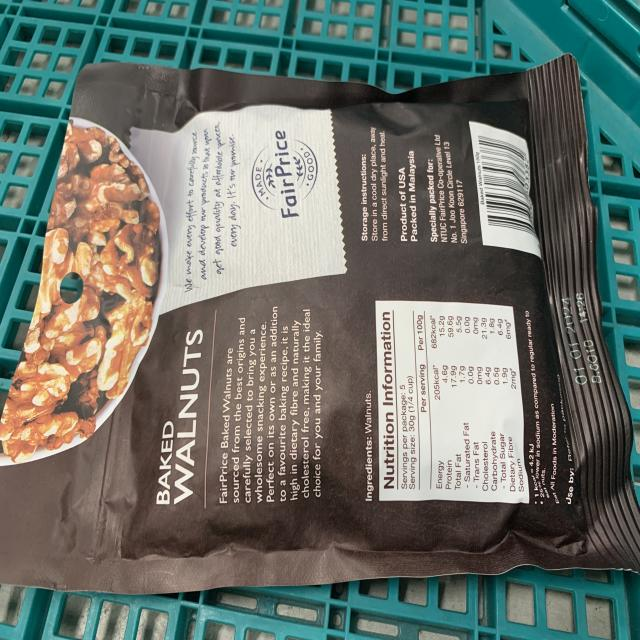object_name: (45, 78, 618, 570)
